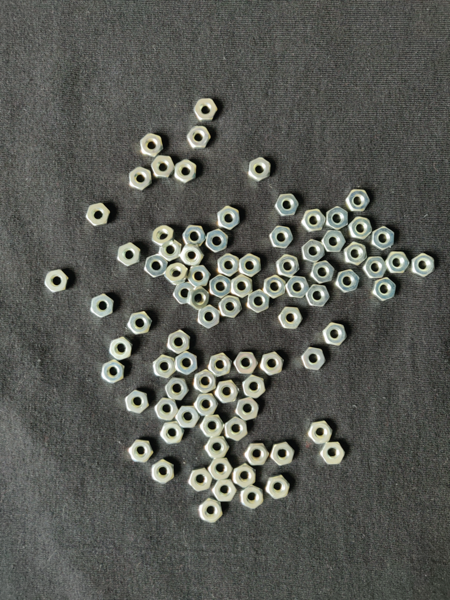nut: (265, 475, 291, 500), (199, 498, 223, 524), (244, 443, 270, 467), (308, 421, 333, 445), (271, 442, 295, 467), (155, 398, 180, 422), (125, 390, 150, 414), (165, 377, 190, 401), (101, 359, 125, 384), (215, 380, 240, 404), (153, 355, 177, 380), (209, 353, 233, 378), (301, 347, 326, 371), (145, 254, 169, 279), (348, 217, 373, 241), (140, 133, 164, 158), (212, 479, 238, 502), (128, 440, 154, 463), (175, 406, 201, 429), (194, 99, 220, 122), (240, 485, 264, 509), (321, 442, 345, 466), (260, 352, 284, 376), (167, 330, 191, 354), (117, 243, 141, 267), (336, 270, 360, 294), (276, 254, 300, 278), (344, 242, 368, 266), (233, 464, 256, 489), (225, 417, 248, 442), (200, 415, 225, 438), (194, 394, 219, 417), (243, 374, 266, 399), (175, 351, 198, 376), (110, 336, 133, 361), (128, 312, 153, 335), (91, 294, 114, 319), (198, 305, 221, 330), (187, 286, 210, 311), (164, 263, 189, 286), (86, 203, 111, 226), (412, 253, 435, 278), (326, 206, 349, 231), (302, 209, 327, 232), (275, 194, 300, 217), (218, 206, 241, 231), (129, 167, 152, 192), (187, 126, 212, 149), (152, 459, 174, 485), (189, 468, 212, 492), (161, 421, 184, 445), (235, 398, 259, 421), (194, 369, 217, 393), (45, 270, 69, 293), (323, 323, 347, 346), (219, 296, 243, 319), (373, 278, 397, 301), (311, 261, 335, 284), (372, 227, 395, 251), (302, 239, 325, 263), (270, 226, 294, 249), (206, 229, 229, 253), (151, 156, 175, 179), (208, 458, 233, 480), (205, 437, 230, 459), (234, 352, 259, 374), (278, 307, 303, 329), (248, 289, 270, 314), (363, 257, 388, 279), (180, 244, 205, 266), (175, 159, 197, 184), (210, 275, 232, 299), (187, 265, 211, 287), (386, 252, 410, 274), (306, 285, 330, 307), (265, 275, 287, 299), (286, 277, 310, 299), (239, 254, 261, 278), (322, 231, 346, 253), (346, 190, 370, 212), (249, 158, 271, 182), (173, 282, 195, 305), (159, 240, 182, 262), (152, 226, 175, 248), (232, 274, 253, 298), (218, 254, 239, 277), (183, 226, 206, 247)
